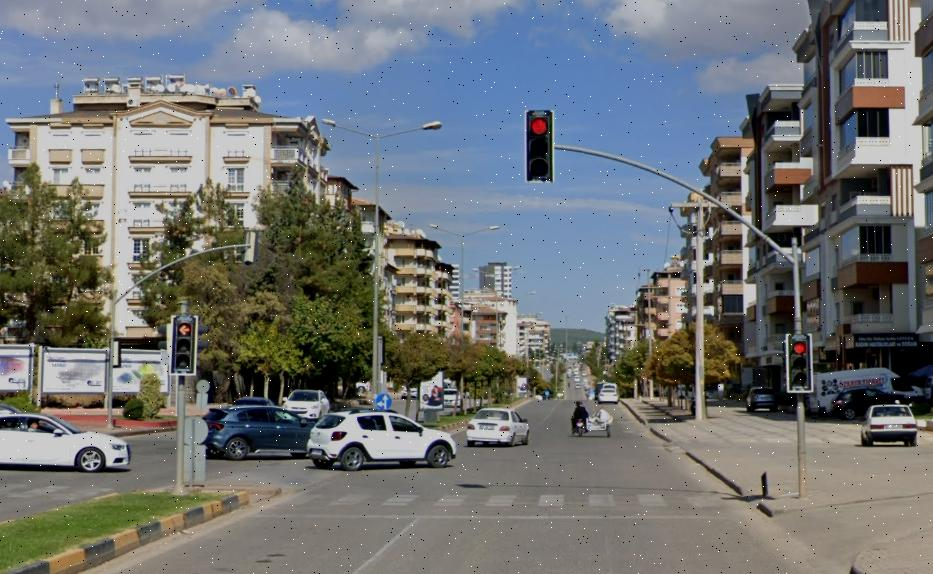redlight: (528, 110, 552, 184), (789, 331, 811, 392)
